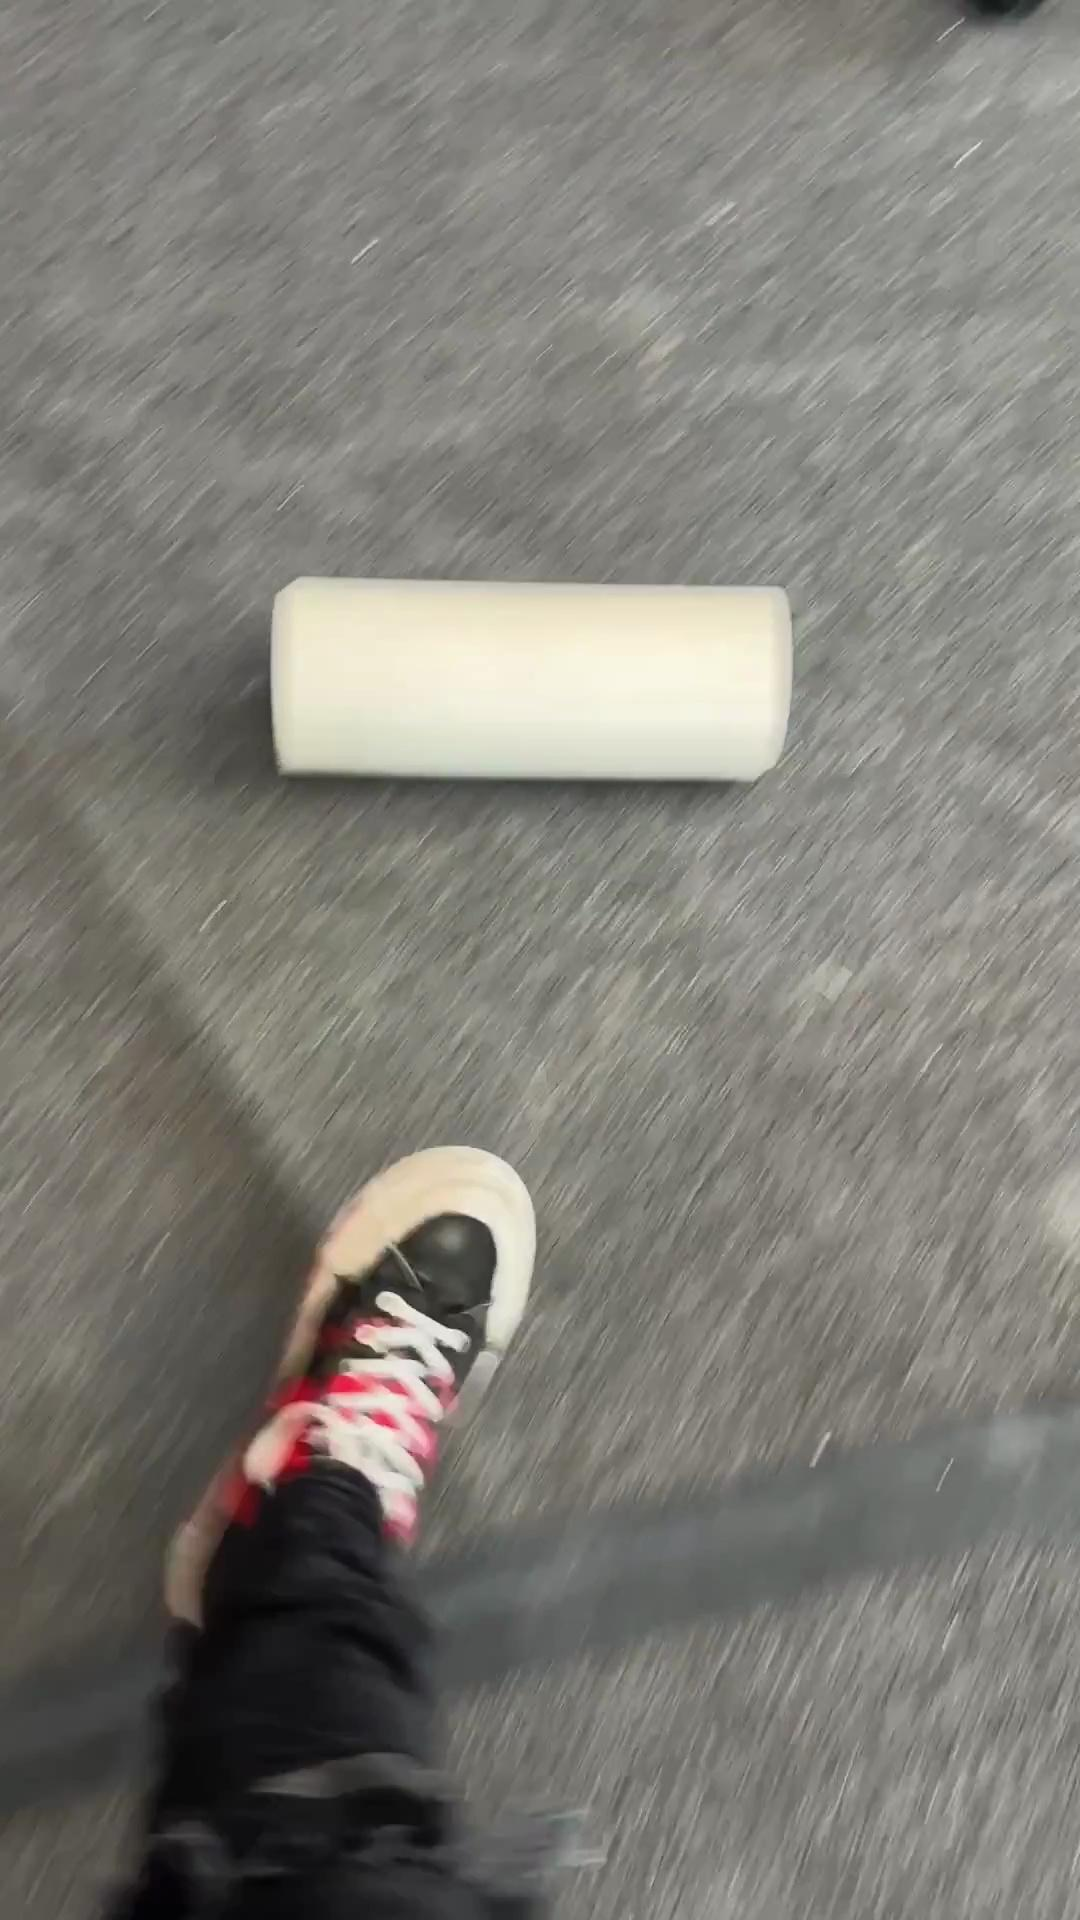CORAL: (266, 571, 794, 785)
